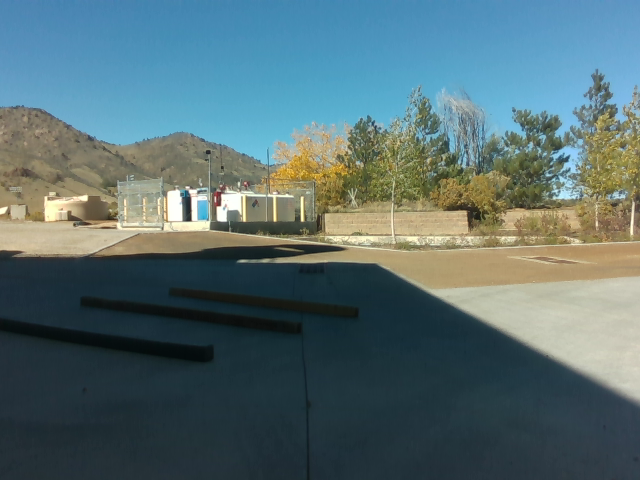dunnage: (2, 282, 365, 368)
